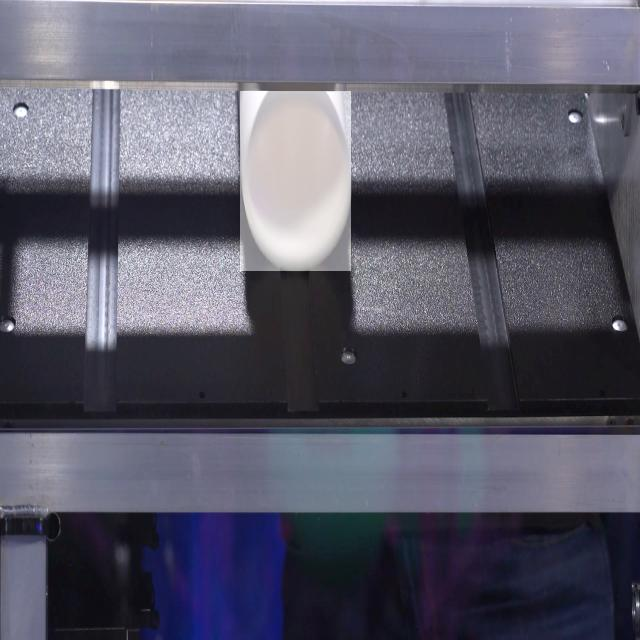Coral: (240, 91, 351, 271)
